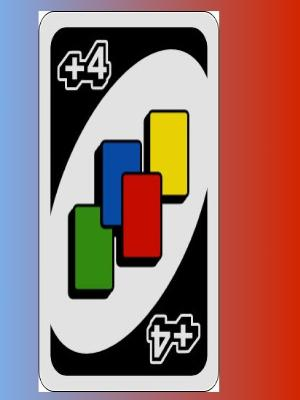wild-4: (37, 7, 220, 394)
